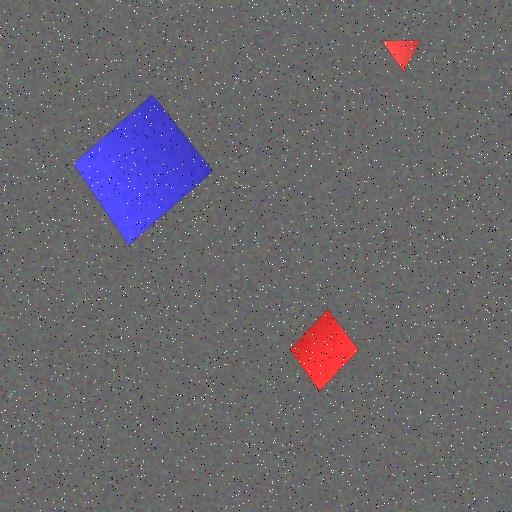BLUE_SQUARE: (72, 94, 214, 246)
RED_SQUARE: (289, 309, 359, 391)
